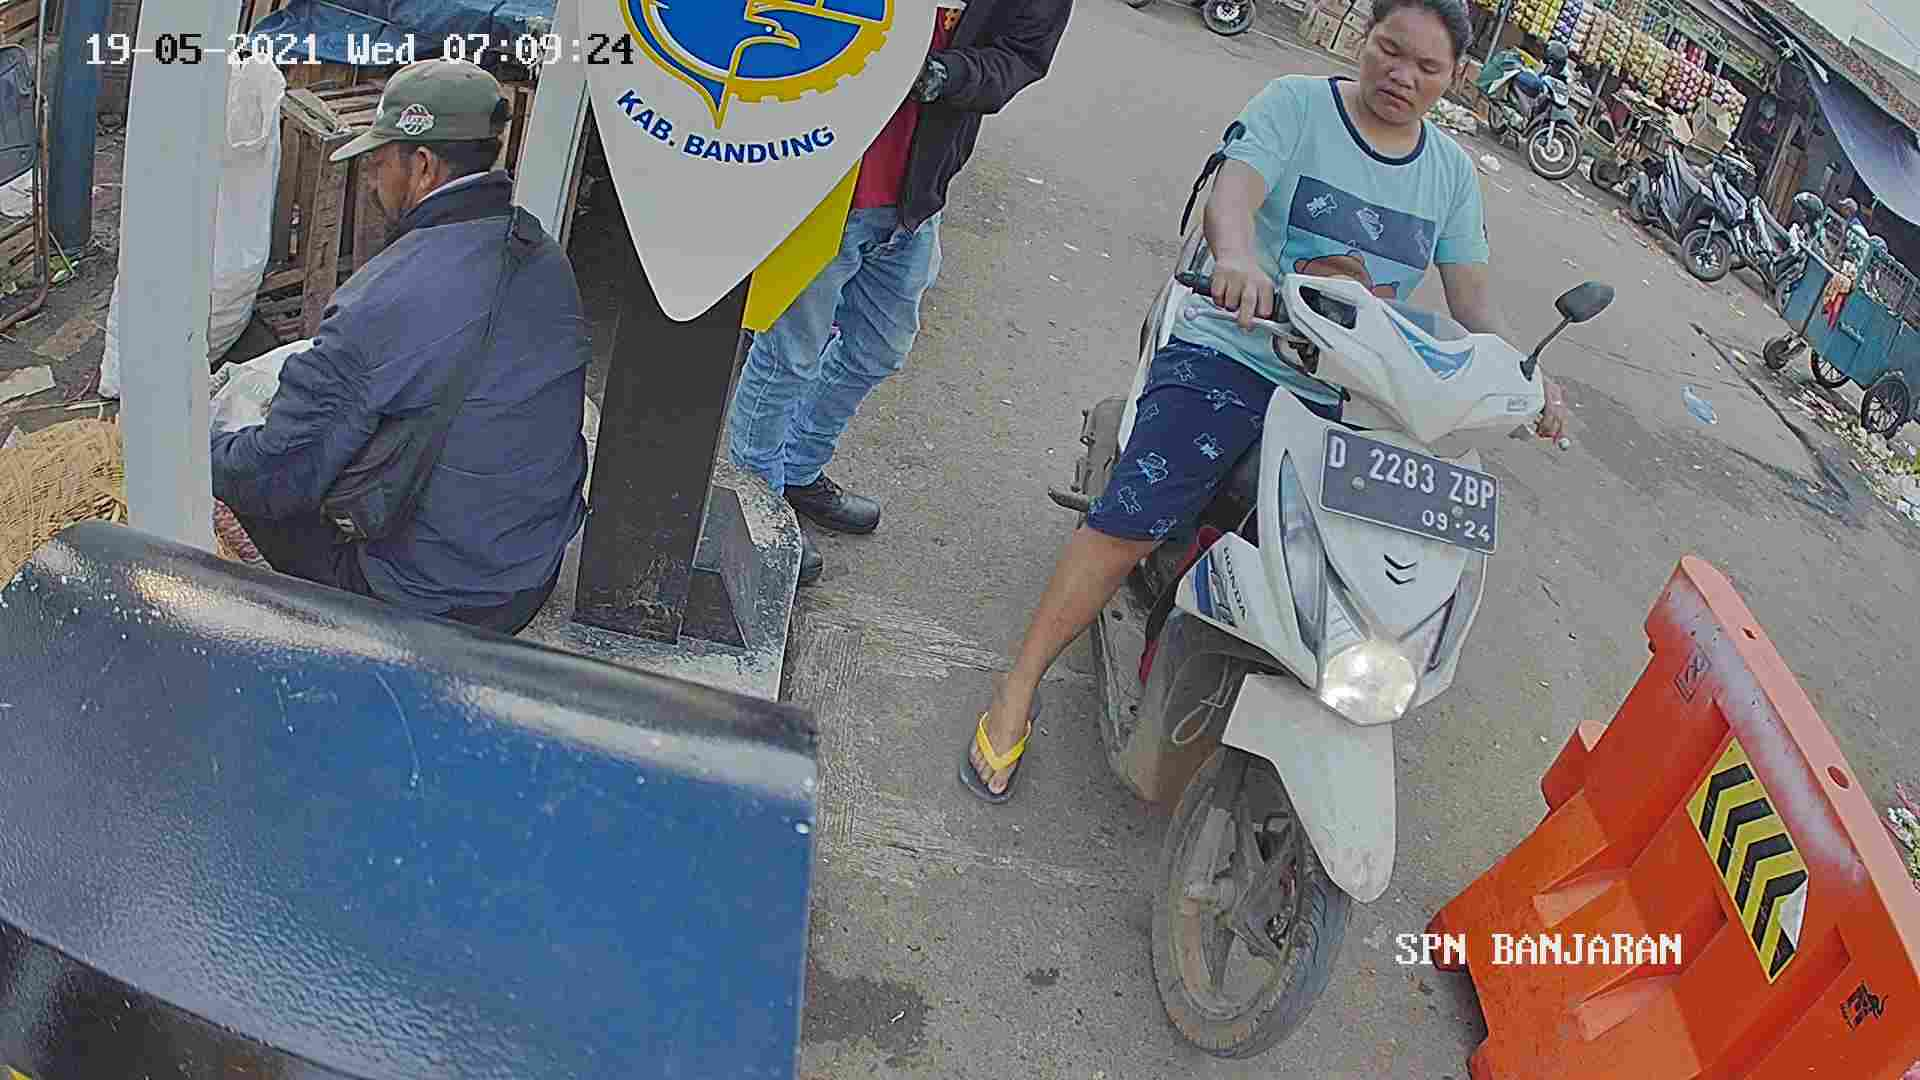motor: (1102, 210, 1485, 1072)
